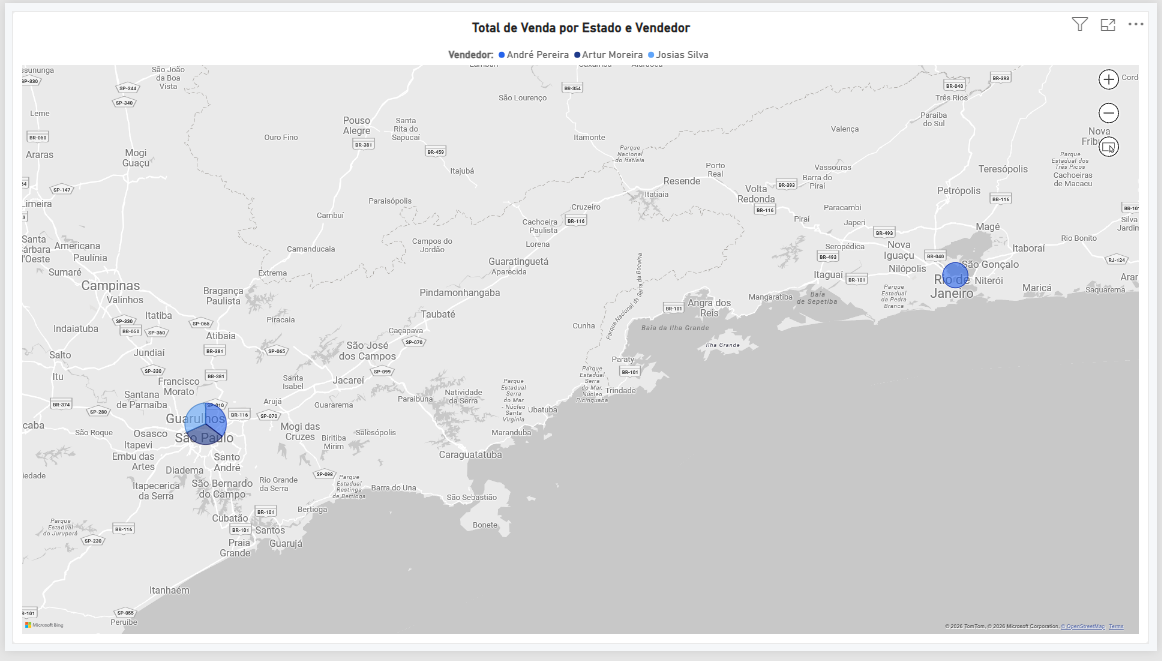

Layout of this report page (visuals, bound fields, positions):
{"tool":"powerbi","page":{"name":"Performance dos Vendedores Por Região","canvas":[1920,1080],"ordinal":4},"visuals":[{"type":"map","fields":{"Category":["Vendas.Estado"],"Series":["Vendas.Vendedor"],"Size":["Sum(Vendas.ValorVenda)"]},"box":[11.7,13.3,1895,1055],"z":0}]}

Visuals, with their boxes in screenshot pixels (x1, y1, x2, y2), scaled from the page's 1920x1080 canvas onto the 1162x661 screenshot:
map - Vendas.Estado x Vendas.Vendedor: <bbox>7, 8, 1154, 654</bbox>
